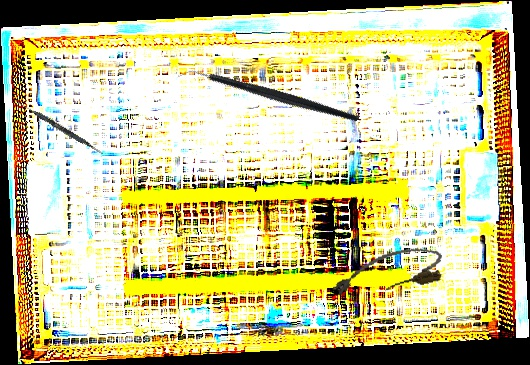Cannula: (326, 241, 447, 304)
Chopper: (176, 15, 361, 179)
Spatula Surgical: (13, 98, 105, 156)
